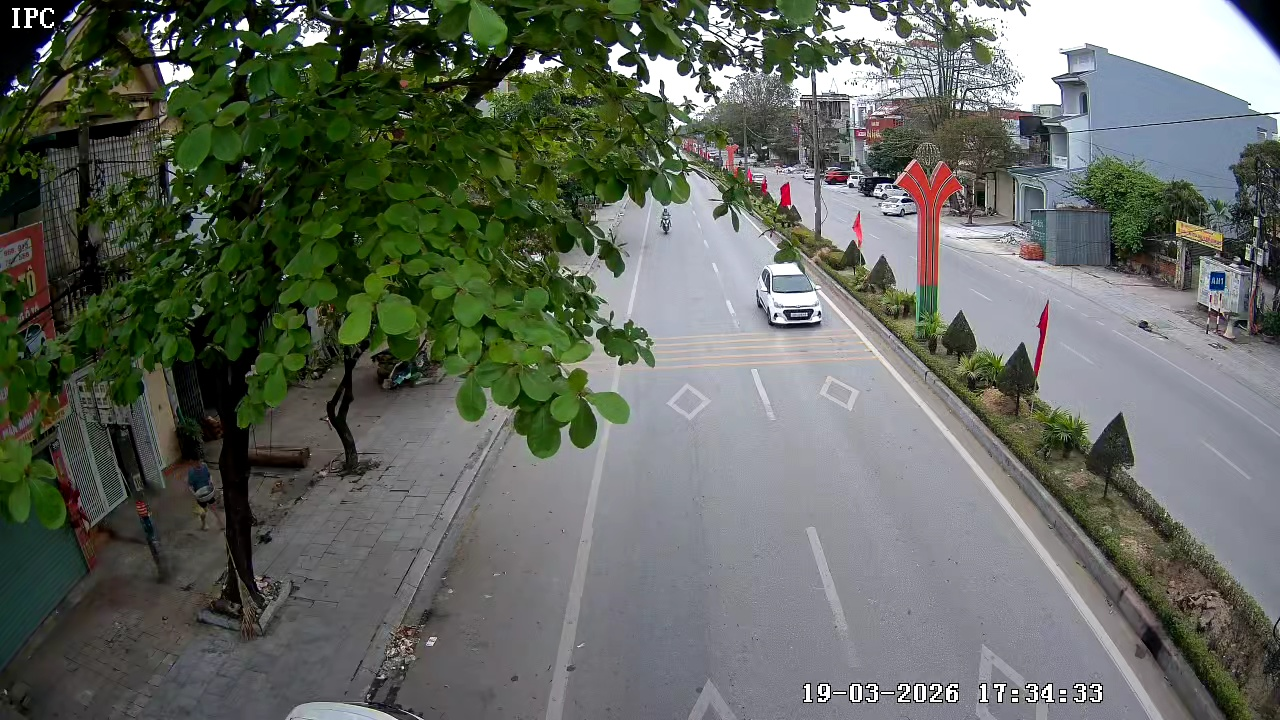car: (753, 260, 824, 328)
motorbike: (658, 202, 674, 236)
